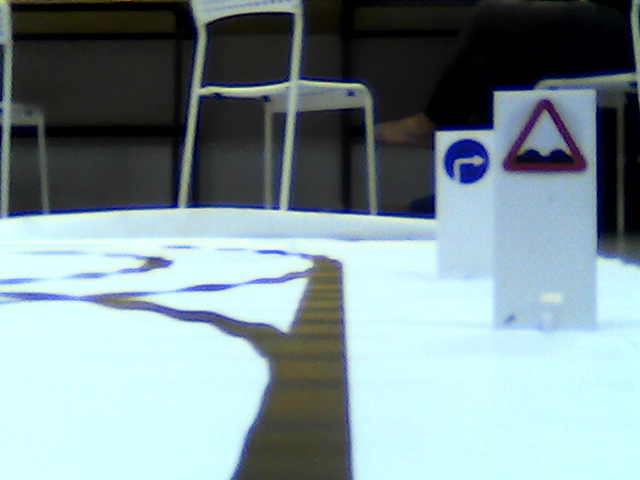Nerov: (502, 96, 590, 172)
Right: (442, 140, 494, 183)
